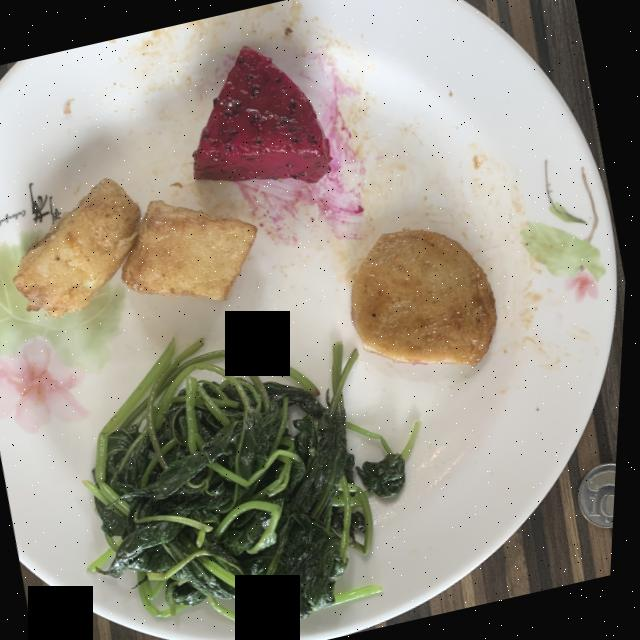coin: (582, 463, 621, 528)
fish cake: (354, 229, 499, 365)
fried potato: (15, 178, 259, 318)
sweet potato leaves: (87, 339, 424, 625)
